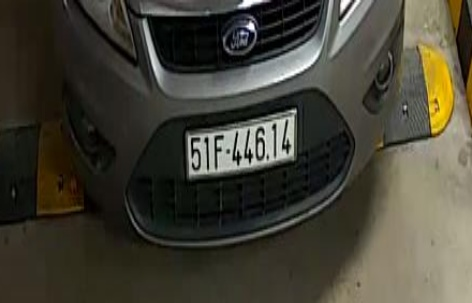plate: (179, 114, 301, 175)
